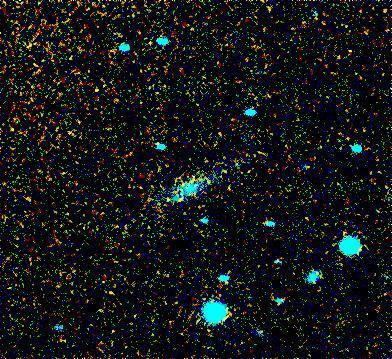star: (165, 185, 195, 215)
